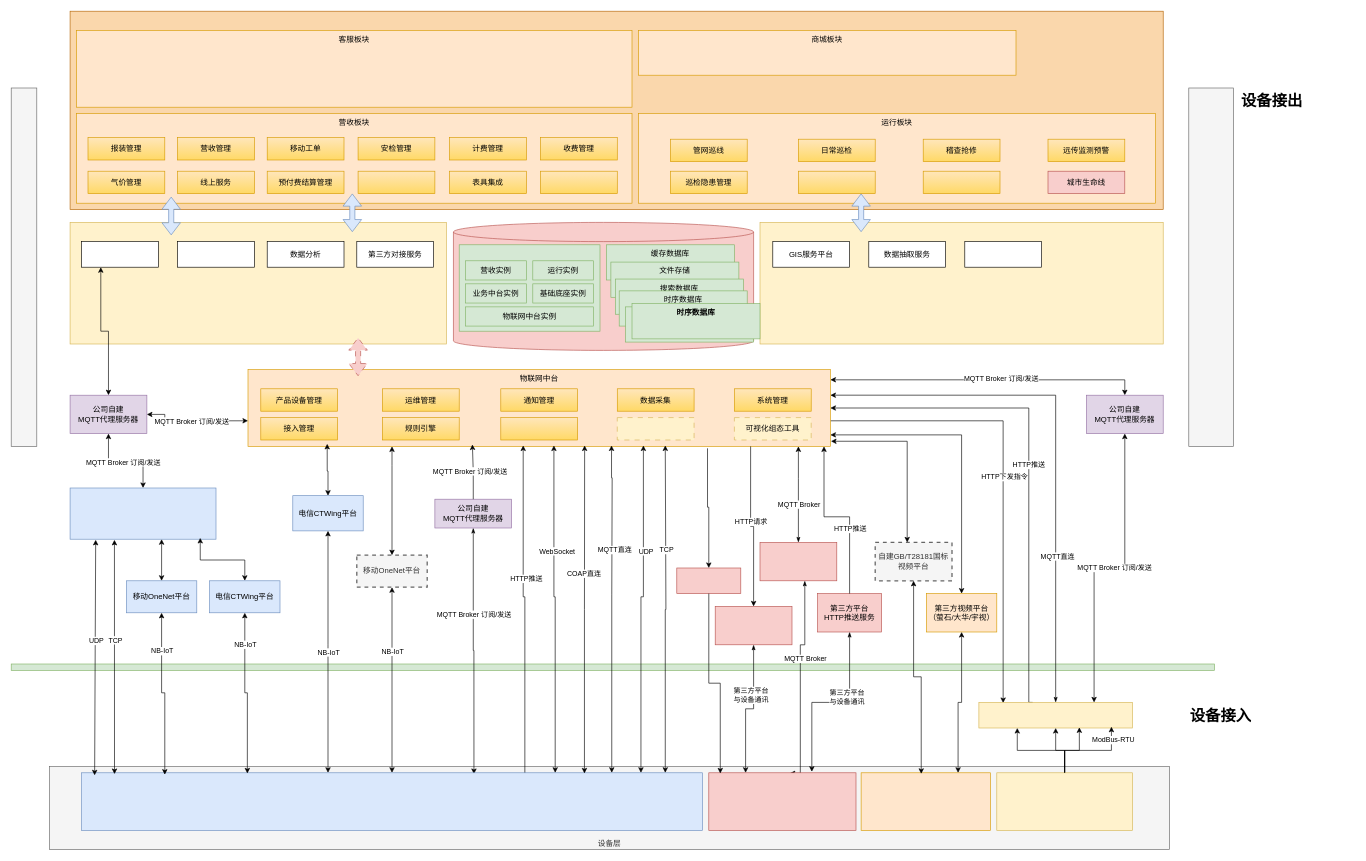
Some shapes in this 1366 by 861 pixel diagram are drawn without their labels. Here are the shapes that lost their labels. From the top down, the box of each, then its label:
(69, 11, 1163, 210): 一体化业务平台
(357, 171, 435, 194): 报表中心
(798, 171, 875, 194): SCADA集中监控
(11, 87, 37, 446): 统一身份认证平台
(81, 241, 158, 267): 下发指令 缓存管理服务
(177, 241, 254, 267): 临时 计费服务
(1188, 87, 1234, 446): 统一设备对外接口服务
(69, 222, 446, 344): 业务中台服务
(459, 244, 600, 331): 业务数据库
(453, 222, 754, 350): 数据存储中心
(759, 222, 1163, 344): 基础底座服务
(500, 417, 578, 440): 告警中心
(617, 417, 694, 440): 视频中心
(69, 487, 216, 539): 通讯前置服务 viewsine-fep
(676, 567, 741, 594): 第三方平台 SDK服务
(759, 542, 837, 581): 第三方平台 MQTT代理服务器
(715, 606, 792, 645): 第三方平台 HTTP拉取接口服务
(978, 702, 1132, 728): 场站SCADA边缘采集服务
(81, 772, 702, 830): 通过协议接入的设备
(708, 772, 856, 830): 通过第三方平台接口接入设备 （接口对接设备）
(860, 772, 990, 830): 视频监控设备
(996, 772, 1132, 830): 场站SCADA
